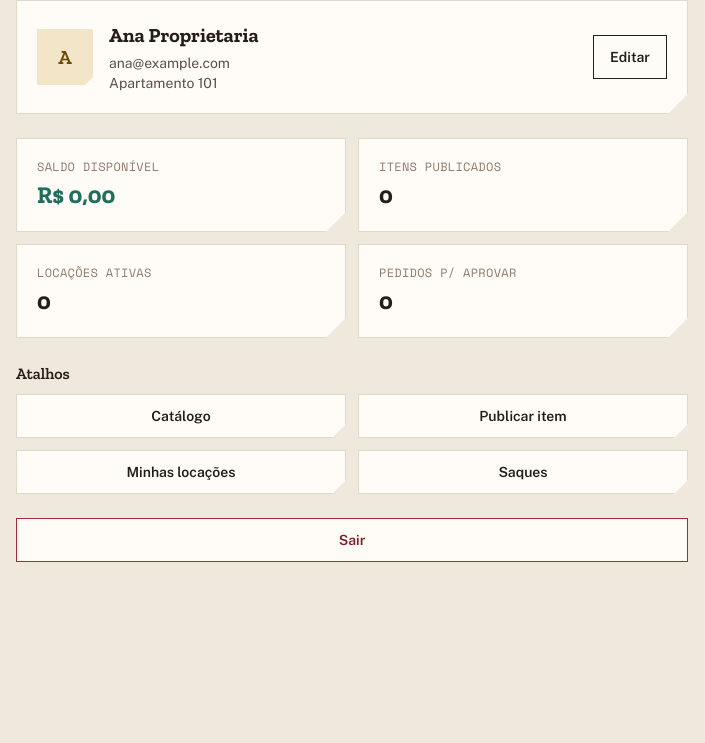
it: PerfilPage › edita nome e apartamento do próprio perfil
Click the button "Editar" at point(630, 57), box [593,35,667,79]
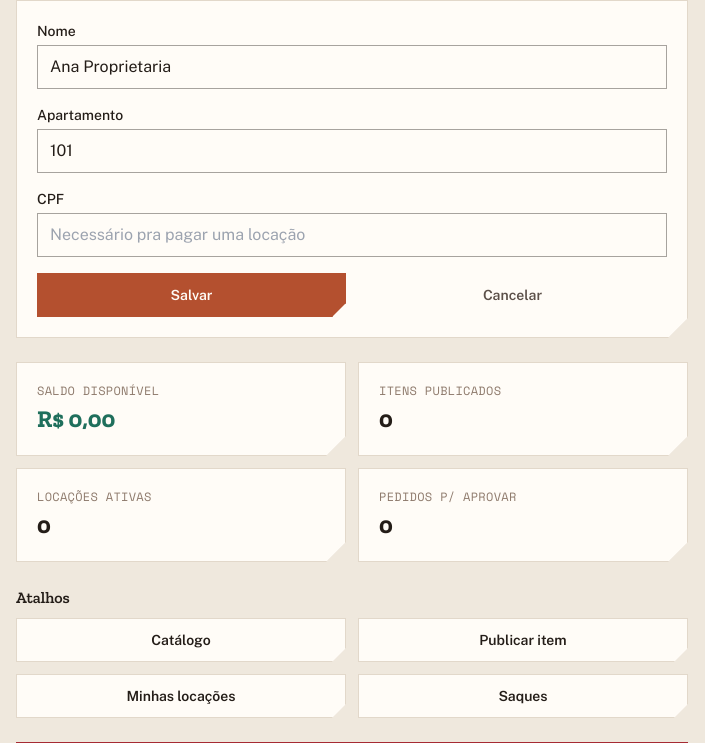
Replace the text in the field labelled "Nome" with "Ana Paula Ribeiro" at point(352, 67), box [37,45,667,89]
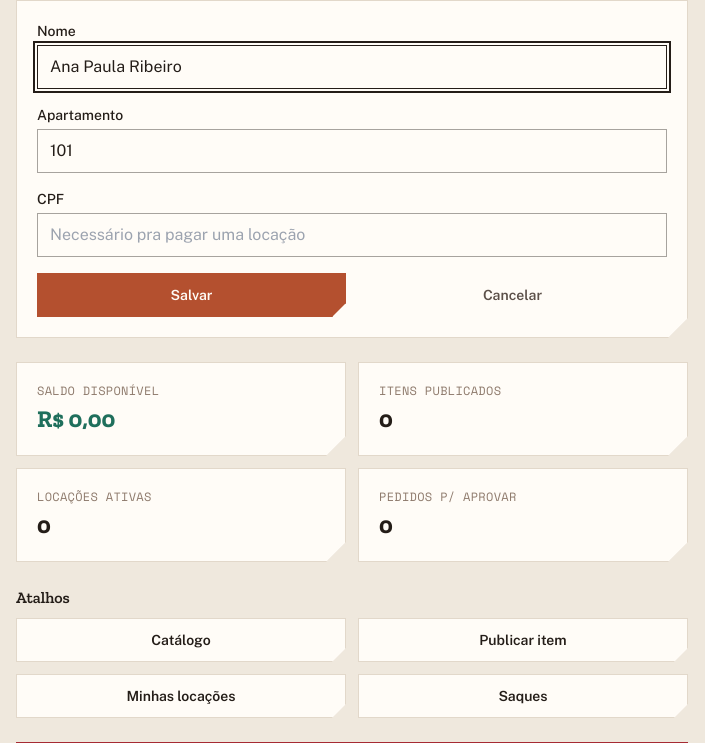
Replace the text in the field labelled "Apartamento" with "202" at point(352, 151), box [37,129,667,173]
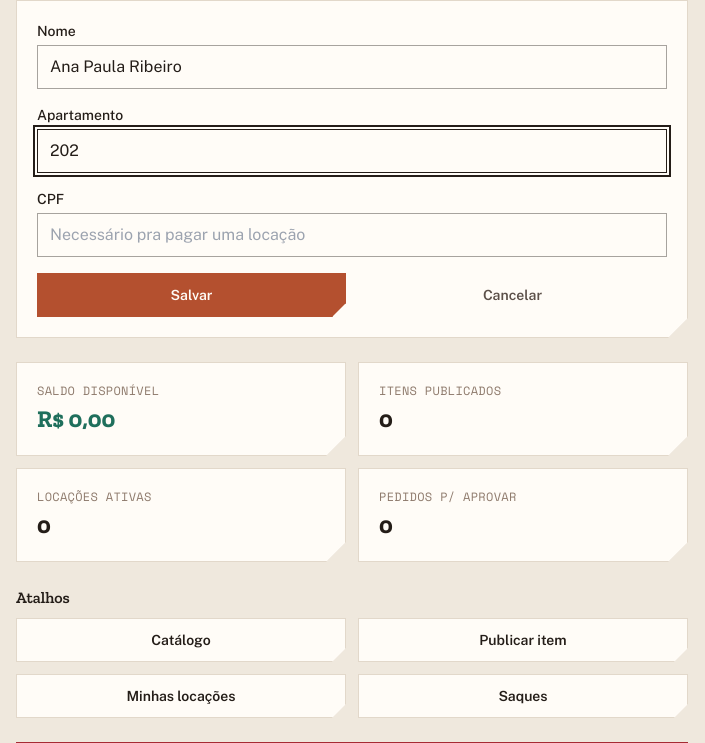
Click the button "Salvar" at point(192, 295), box [37,273,346,317]
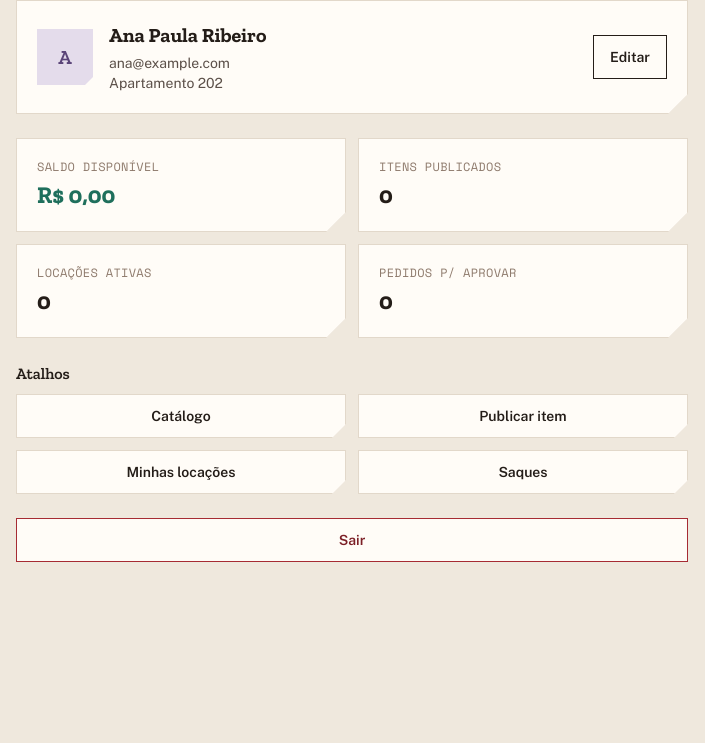
Now the heading "Ana Paula Ribeiro" is shown, box [109,21,266,49]
Now the text "Apartamento 202" is shown, box [109,75,223,91]
